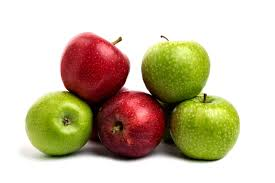apel: (92, 91, 168, 165), (23, 87, 96, 162), (60, 28, 132, 103), (138, 37, 214, 106), (168, 95, 243, 163)
